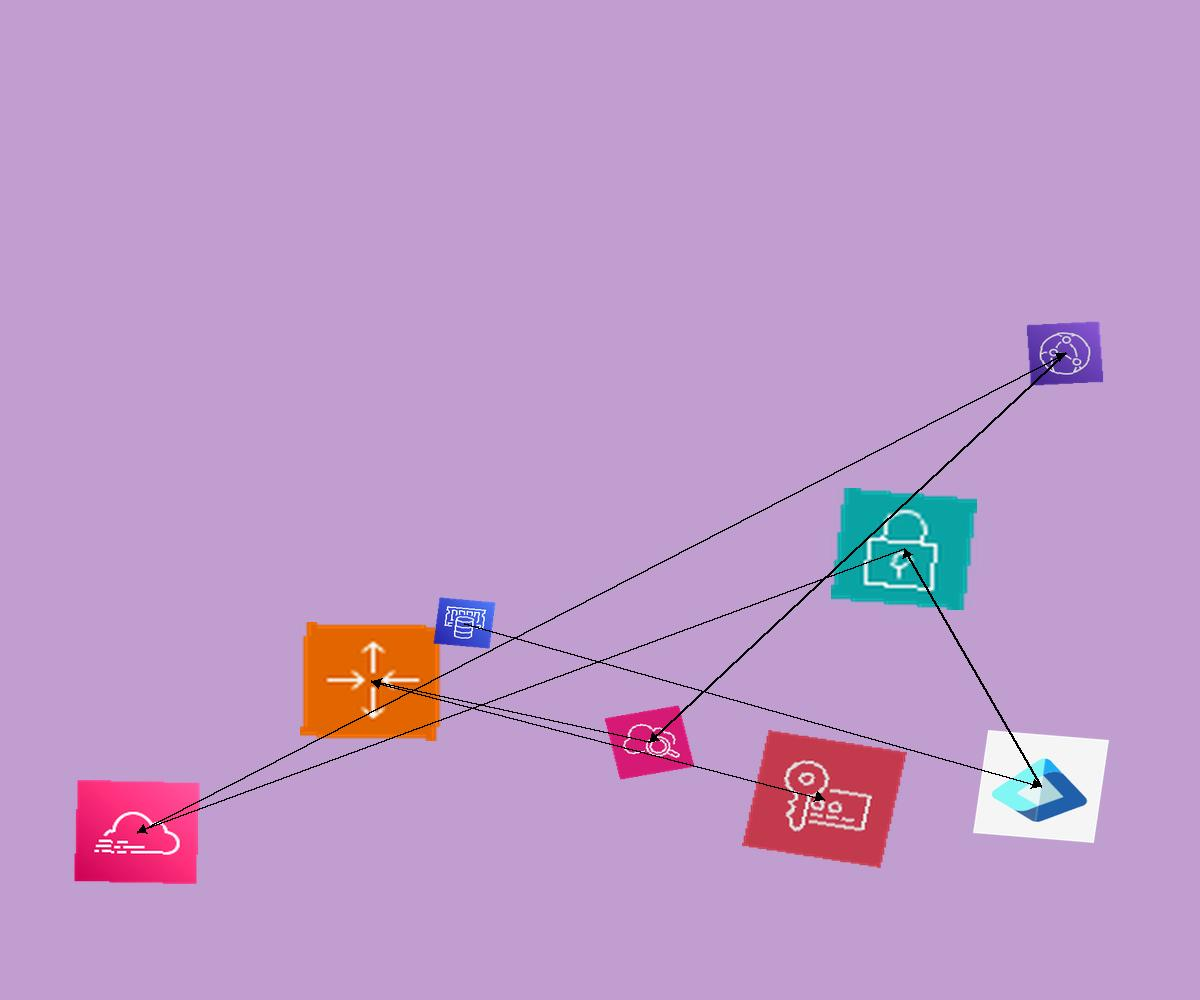AWS-CloudFront: (1026, 321, 1104, 386)
AWS-CloudTrail: (73, 779, 201, 885)
AWS-CloudWatch: (604, 705, 695, 780)
AWS-ElastiCache: (433, 597, 496, 649)
AWS-Key-Management-Service: (742, 730, 907, 868)
AWS-Private-subnet: (831, 488, 977, 610)
AWS-Scaling-group: (300, 622, 443, 741)
Azure_microsoft_entra: (973, 730, 1109, 843)
